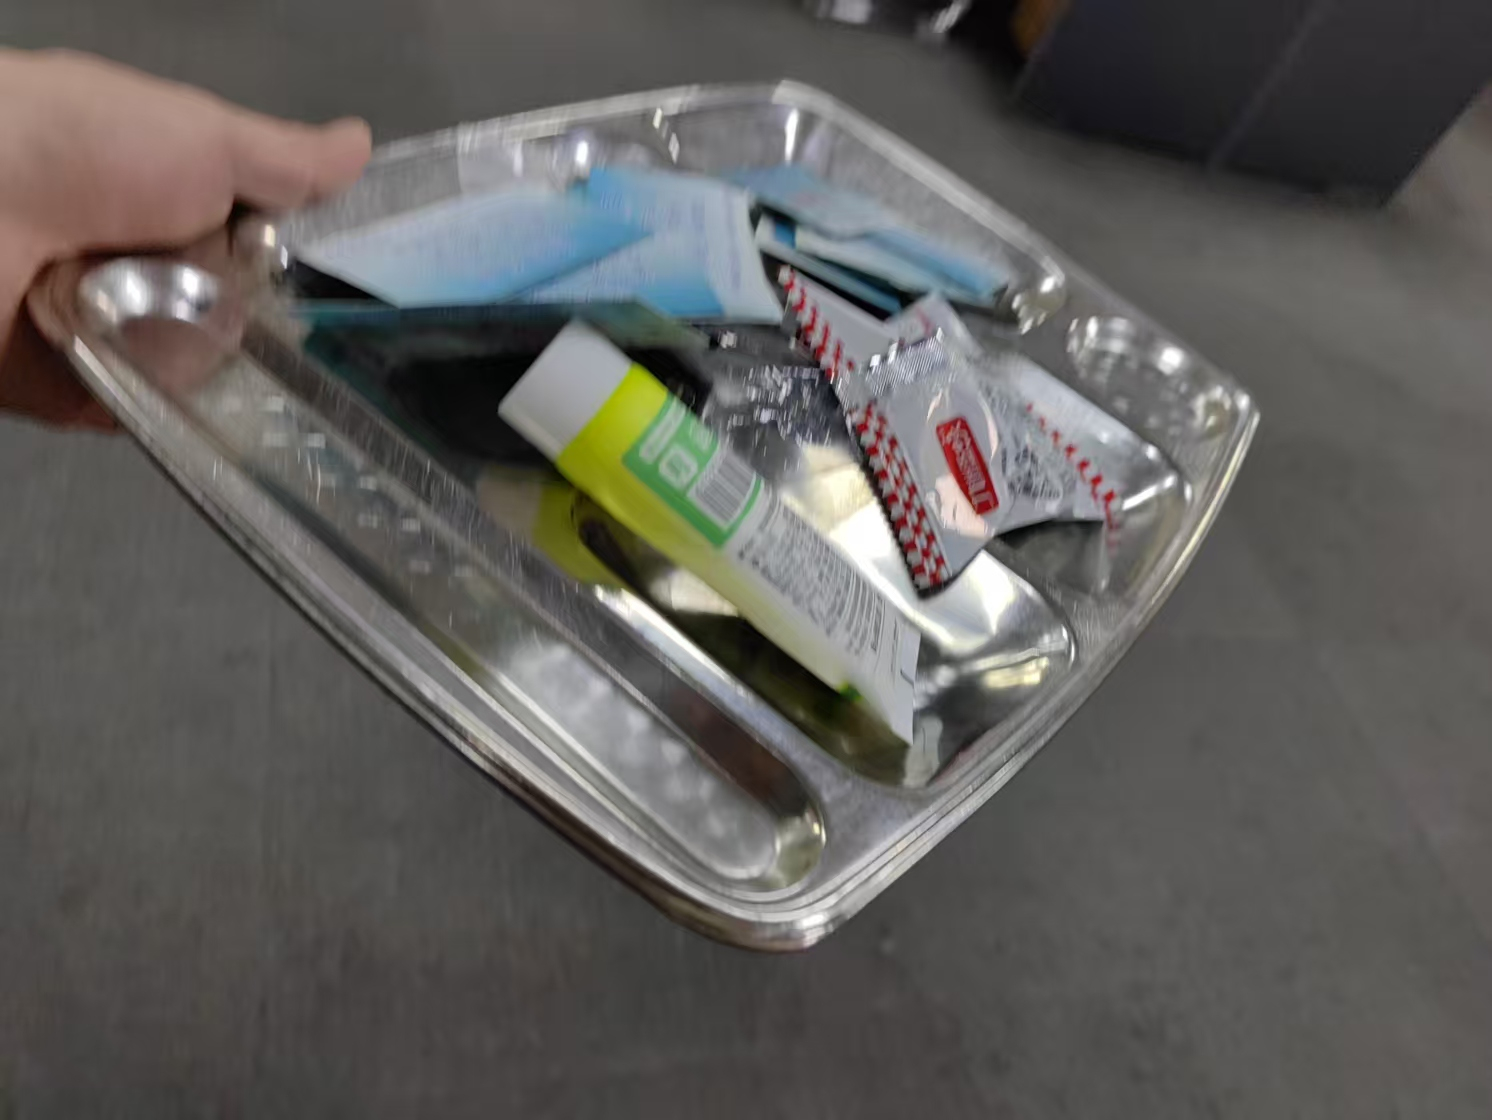plate: (23, 73, 1267, 956)
severe: (289, 154, 1126, 754)
